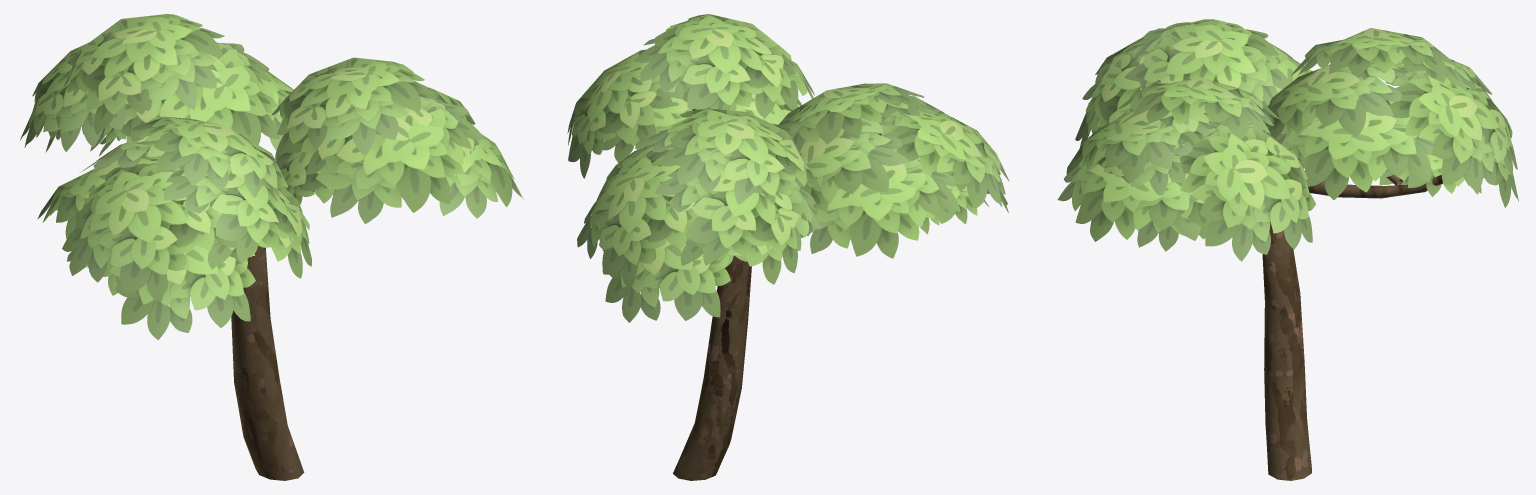
Rendered from Tree_2.gltf.
The picture shows the model from 3 angles, left to right: view 1: azimuth 30°, elevation 25°; view 2: azimuth 150°, elevation 25°; view 3: azimuth 270°, elevation 25°; orthographic projection. The views are drawn at different scales.
Visible parts, largest first — view 1: Tree_2; view 2: Tree_2; view 3: Tree_2.
Boxes of the visible parts, x1,y1,x2,y2 form: Tree_2: (20,14,523,480); Tree_2: (567,14,1009,480); Tree_2: (1057,19,1518,480).
Bounding box in the file's own units: 5.89 × 5.43 × 5.87.
2 materials, 2 textured.
